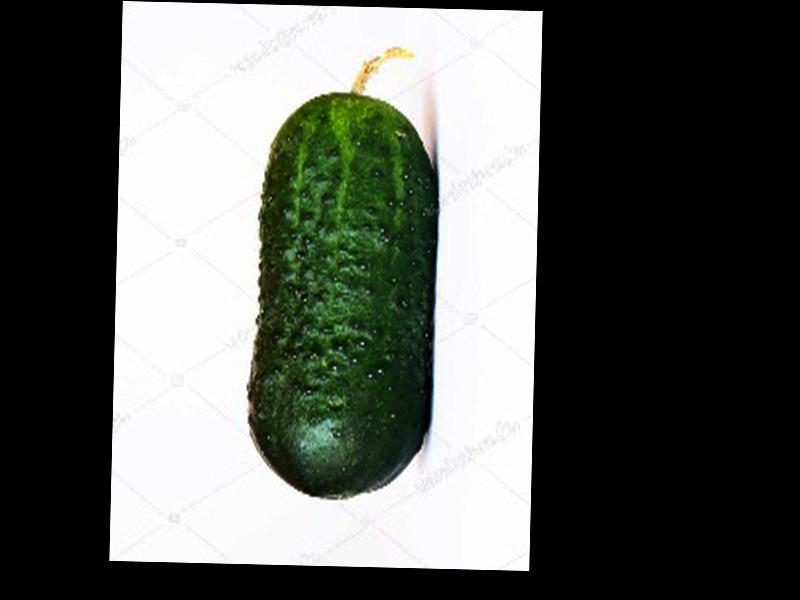Cucumber: (248, 41, 438, 497)
